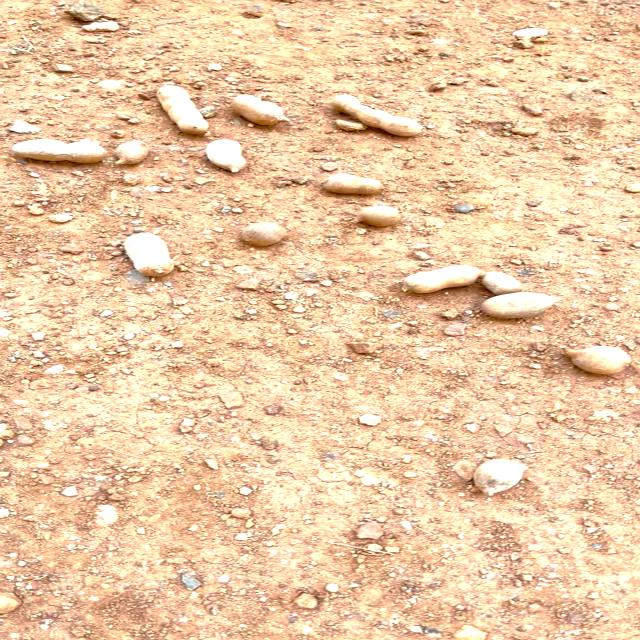tamarind: (329, 91, 427, 138), (11, 134, 110, 174), (149, 83, 211, 137), (558, 342, 630, 378), (232, 89, 295, 130), (124, 233, 175, 282), (399, 266, 485, 293), (474, 292, 558, 318), (320, 172, 390, 198), (203, 140, 250, 172), (112, 135, 152, 170), (357, 203, 403, 228), (239, 222, 286, 246), (485, 266, 521, 293)
